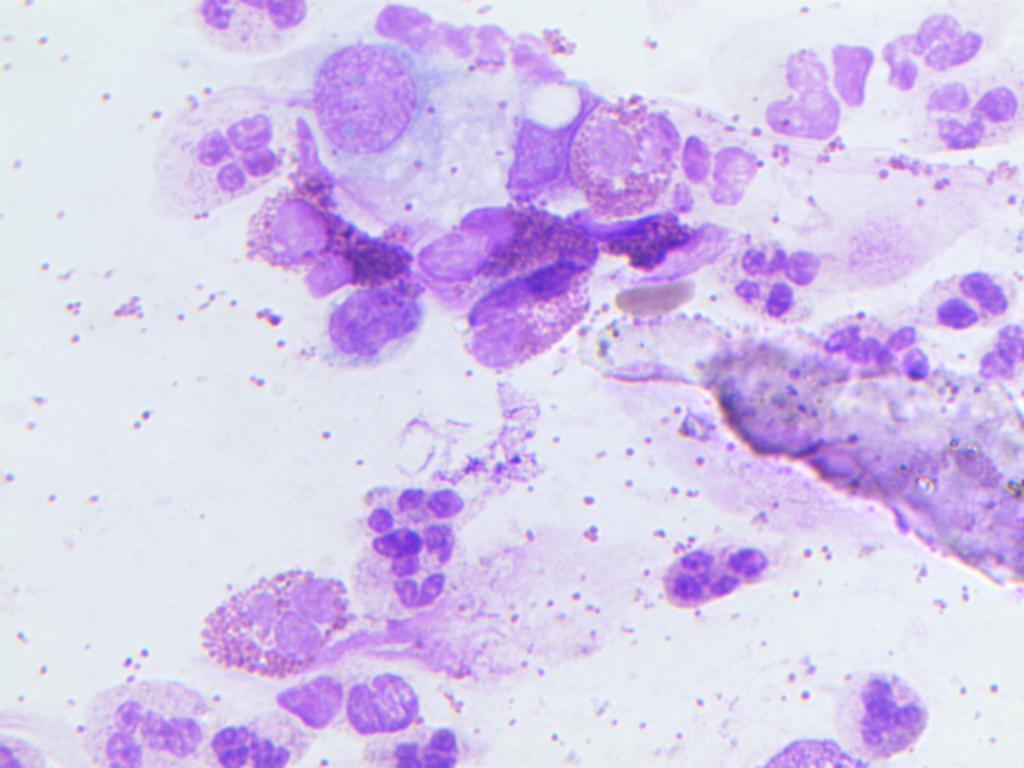artifact: (701, 343, 834, 470), (376, 3, 572, 89), (767, 38, 874, 151), (261, 661, 344, 733), (351, 672, 430, 743), (611, 272, 706, 331), (752, 721, 862, 768)
eosinophil: (240, 178, 414, 293), (196, 560, 348, 680), (459, 260, 602, 376), (419, 199, 602, 284), (567, 84, 679, 217), (591, 211, 713, 276)
epithelial: (307, 37, 420, 158), (309, 281, 428, 368), (841, 660, 929, 765)
neutrophil: (146, 86, 285, 219), (642, 538, 789, 619), (78, 681, 214, 768), (908, 60, 1023, 162), (338, 486, 485, 556), (880, 11, 996, 97), (339, 546, 467, 618), (676, 119, 764, 217), (824, 311, 931, 391), (914, 260, 1024, 337), (732, 236, 827, 320), (203, 708, 313, 768), (369, 713, 484, 768), (196, 0, 317, 52), (982, 314, 1024, 408)
